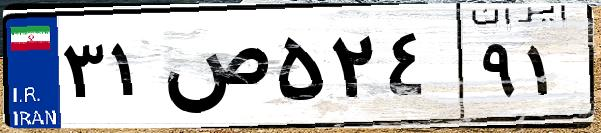1: (525, 38, 570, 115), (110, 28, 158, 98)
2: (330, 28, 385, 110)
3: (57, 26, 110, 100)
4: (385, 28, 445, 110)
5: (270, 28, 330, 110)
9: (475, 38, 525, 113)
ص: (158, 20, 270, 120)
